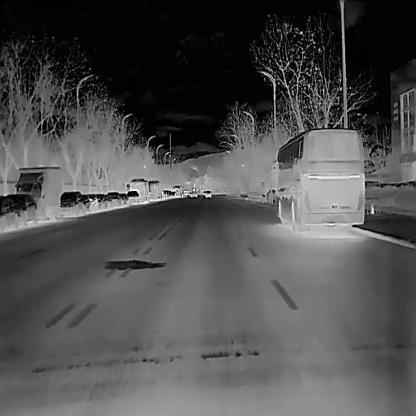car: (270, 126, 364, 232), (15, 166, 61, 223), (8, 192, 37, 227), (59, 189, 82, 217), (126, 176, 148, 203), (0, 194, 16, 231), (147, 178, 162, 201), (79, 193, 90, 213), (106, 191, 120, 206), (88, 194, 99, 212), (96, 193, 106, 211), (126, 190, 139, 203), (171, 185, 183, 198), (118, 192, 129, 205), (204, 188, 212, 198)
